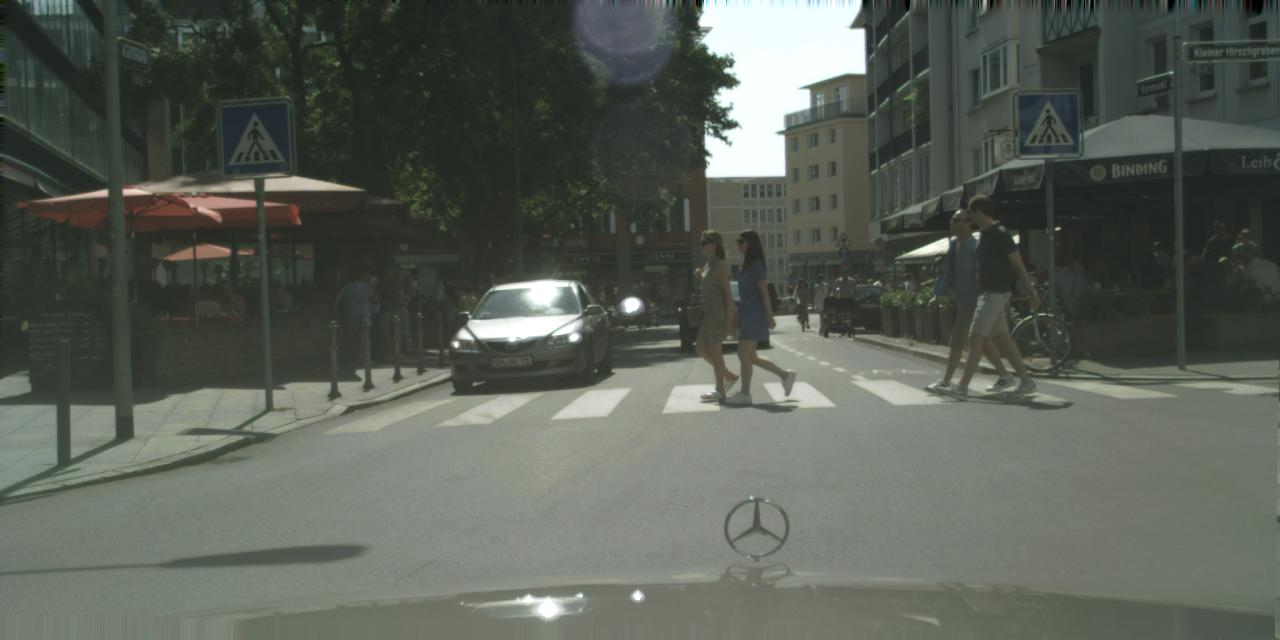ped: (941, 195, 1024, 399), (929, 209, 1003, 392), (724, 230, 794, 399), (680, 229, 749, 399), (1223, 229, 1263, 327), (1200, 220, 1240, 316), (369, 266, 407, 360), (337, 268, 375, 360), (351, 266, 388, 360), (315, 267, 351, 355), (383, 271, 418, 355), (1162, 242, 1196, 328), (1144, 241, 1177, 321), (1060, 249, 1092, 329), (471, 272, 503, 350), (394, 275, 426, 353), (1140, 252, 1168, 324), (831, 268, 859, 336), (454, 286, 482, 352), (450, 277, 478, 342), (399, 269, 426, 336), (210, 263, 237, 330), (437, 283, 463, 347), (810, 272, 834, 334), (444, 283, 467, 339), (900, 273, 921, 323), (895, 273, 915, 323), (792, 277, 810, 322), (874, 279, 890, 320), (863, 279, 879, 319), (883, 278, 898, 318), (851, 275, 863, 305)
